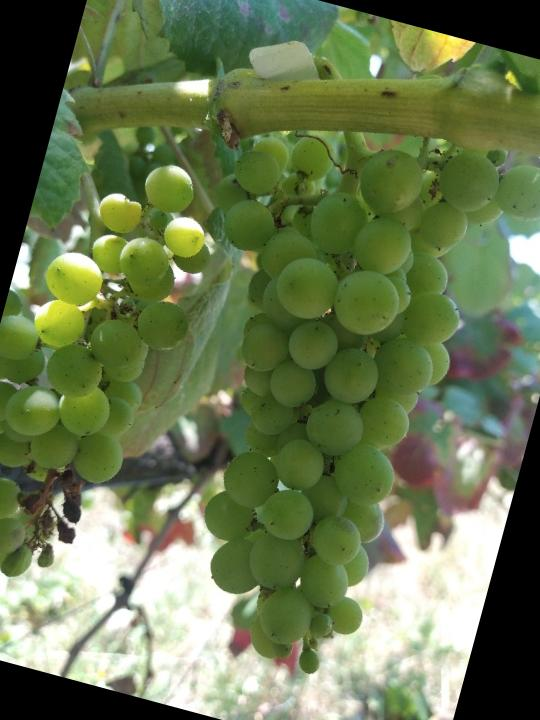grape: (97, 79, 540, 715), (0, 135, 230, 608)
